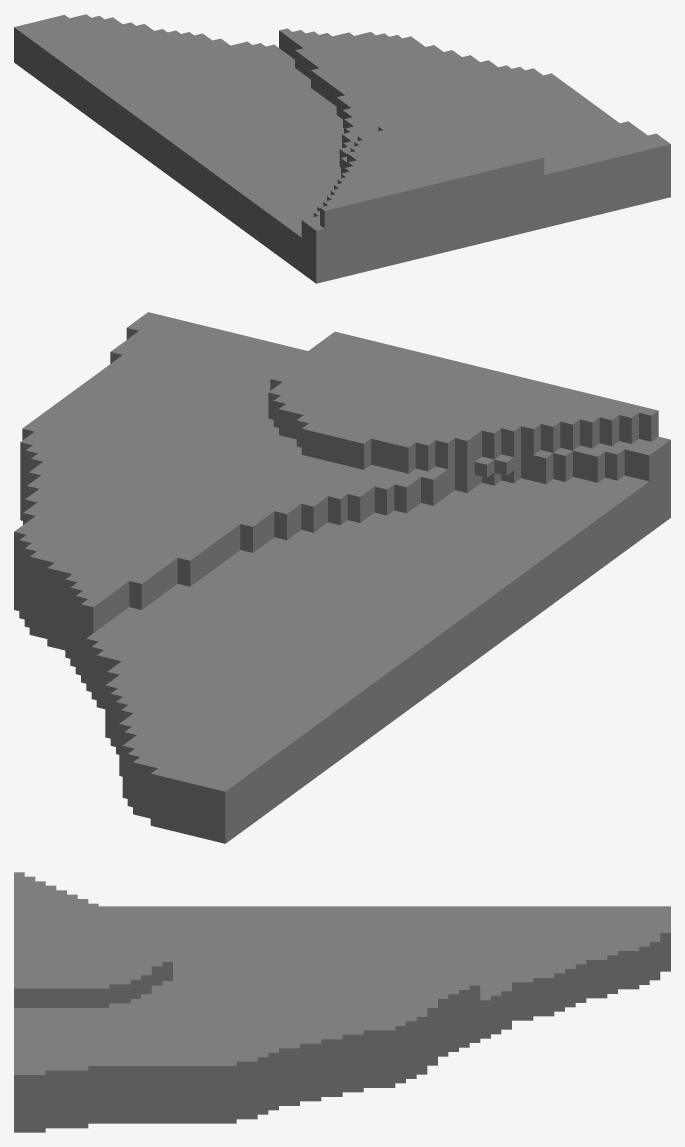
The model's file is Main Island-16.obj.
3 renders of one model, top to bottom at view 1: azimuth 30°, elevation 25°; view 2: azimuth 150°, elevation 25°; view 3: azimuth 270°, elevation 25°, orthographic. The views are drawn at different scales.
Parts seen in each view (by area): view 1: Main Island-16; view 2: Main Island-16; view 3: Main Island-16.
Part boxes in pixels (x1=…): Main Island-16: x1=14, y1=14, x2=670, y2=283; Main Island-16: x1=14, y1=312, x2=670, y2=843; Main Island-16: x1=14, y1=872, x2=670, y2=1132.
Bounding box in the file's own units: 42 × 8 × 62.
Materials: 1 (1 with a texture image).
